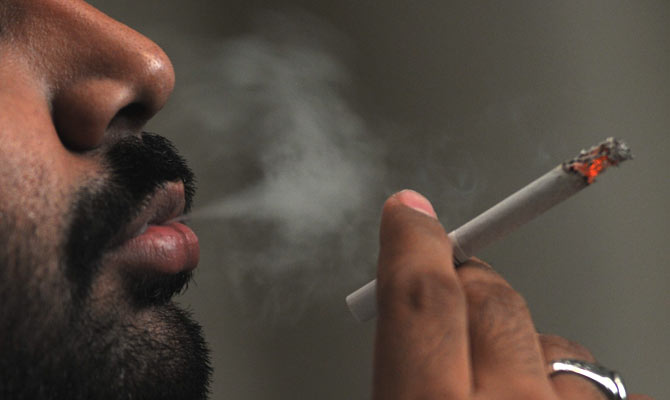cigarette: (332, 132, 636, 344)
